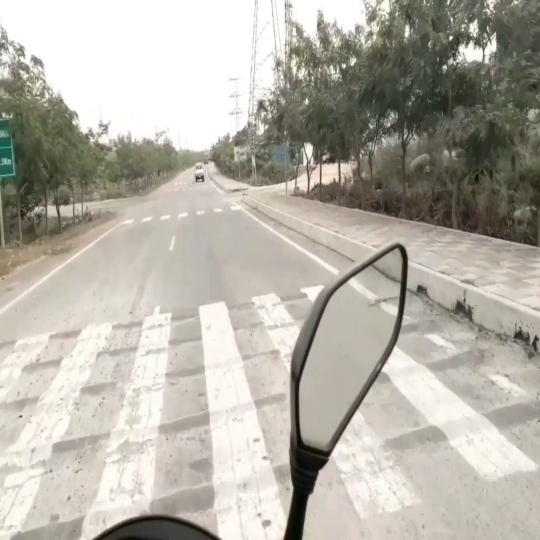Speed Bump: (0, 385, 288, 451), (0, 342, 289, 406), (0, 312, 291, 366), (0, 465, 287, 519), (0, 280, 294, 318), (364, 404, 540, 454), (390, 346, 505, 384), (406, 309, 461, 333)
